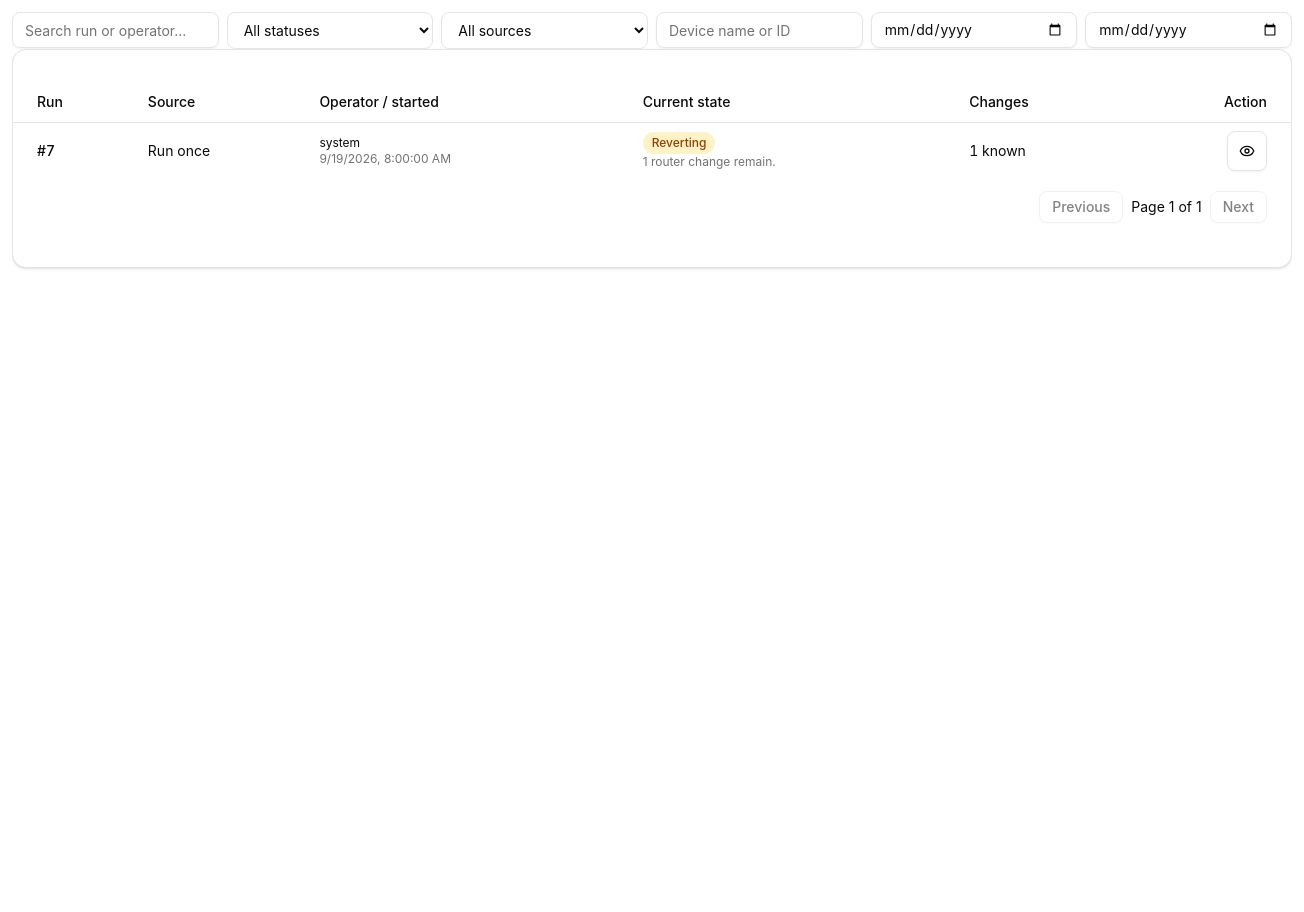
Test: shows recovery child progress instead of original apply progress through completion
Click the button named "Review run 7": (1247, 150) x1=1227 y1=130 x2=1267 y2=170
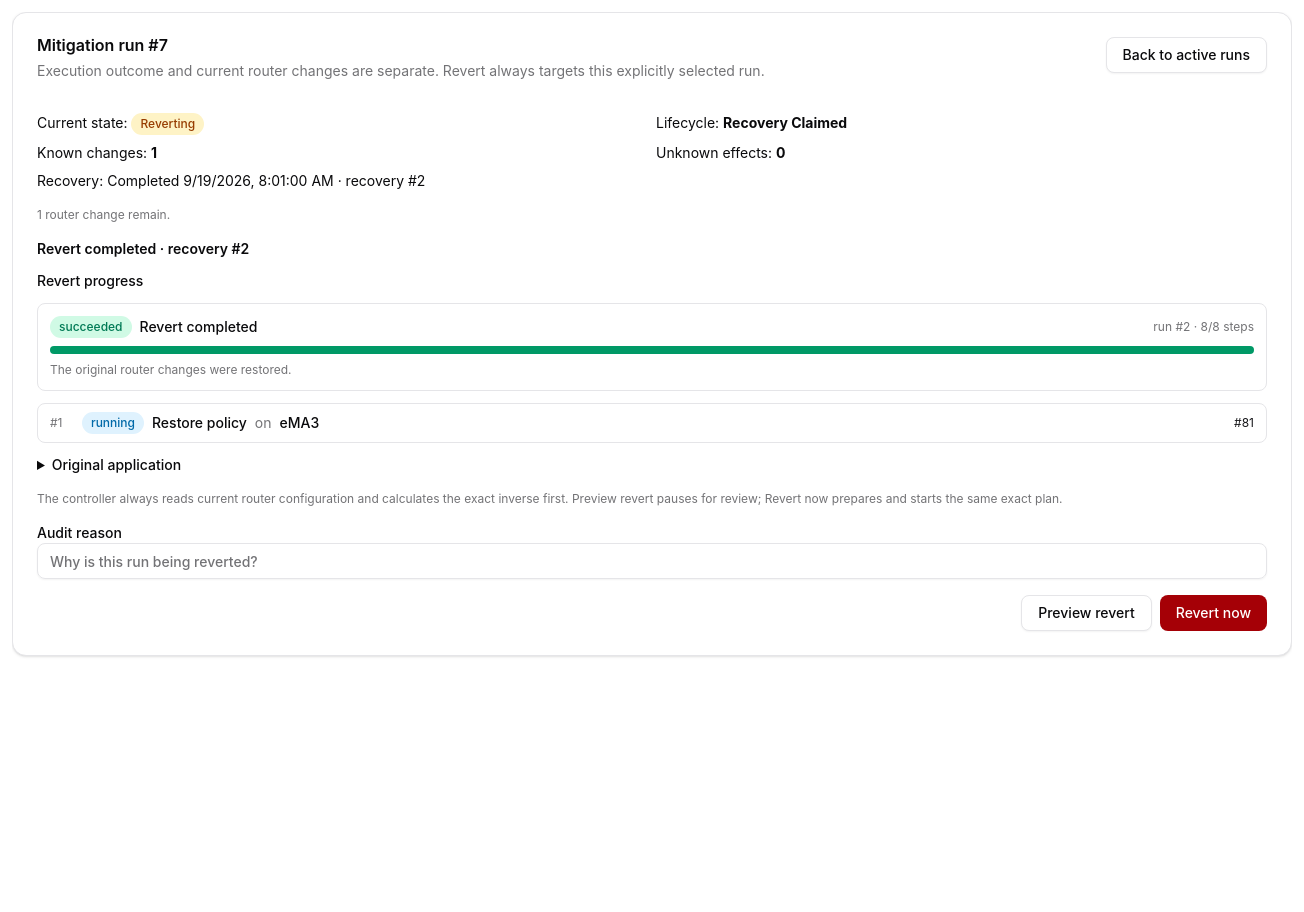
Check: the heading "Revert progress" is shown, box x1=37 y1=272 x2=143 y2=289
Check: the text "Restore policy" is shown, box x1=152 y1=413 x2=247 y2=433
Check: the heading "Revert completed · recovery #2" is shown, box x1=37 y1=240 x2=249 y2=257
